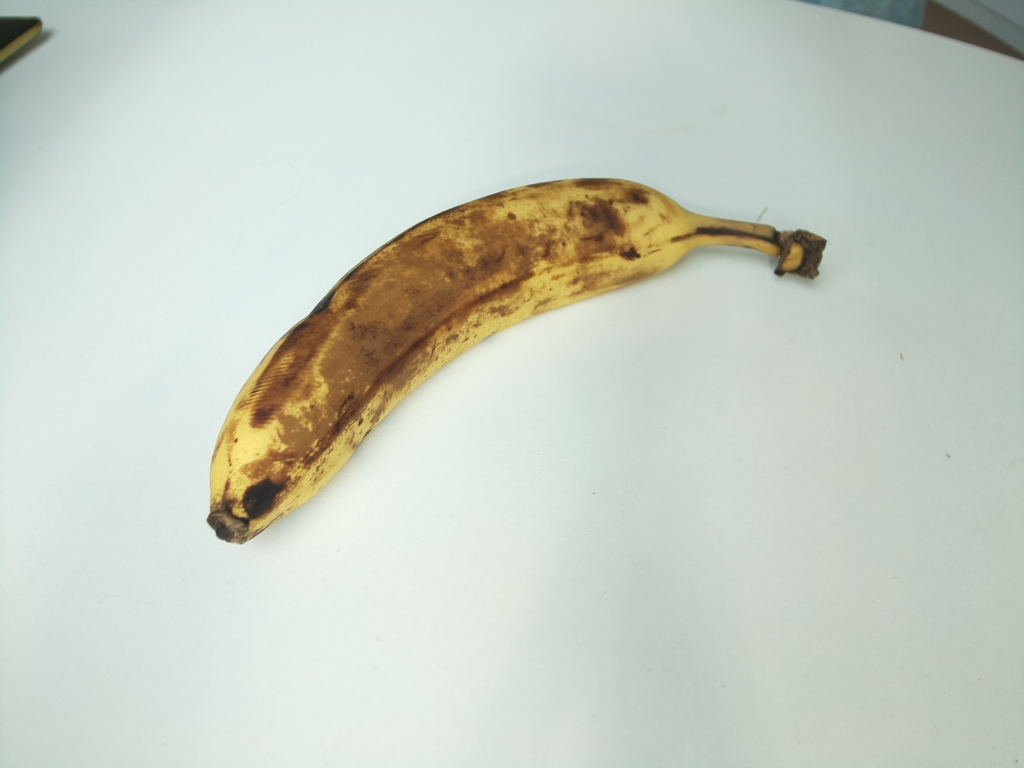banana: (208, 175, 826, 545)
